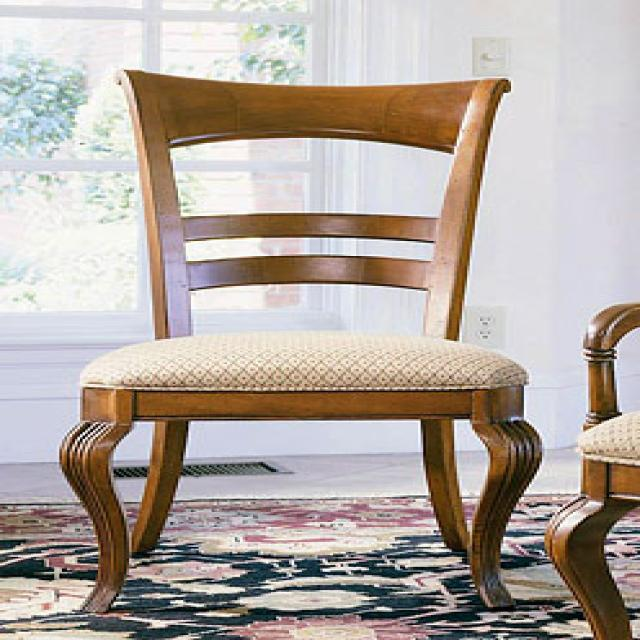chair: (57, 66, 542, 614), (542, 301, 637, 638)
